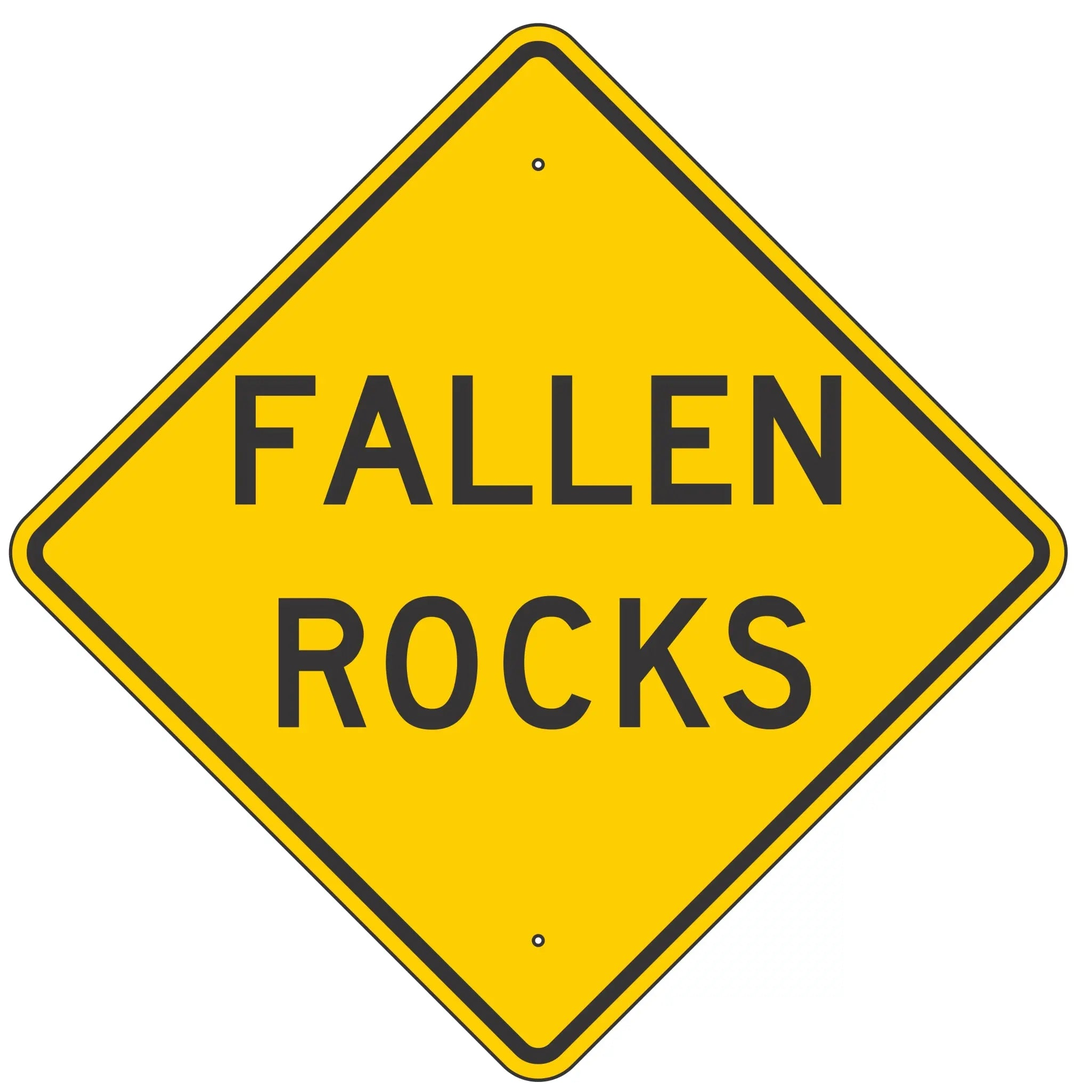FallenSign: (11, 25, 1073, 1086)
